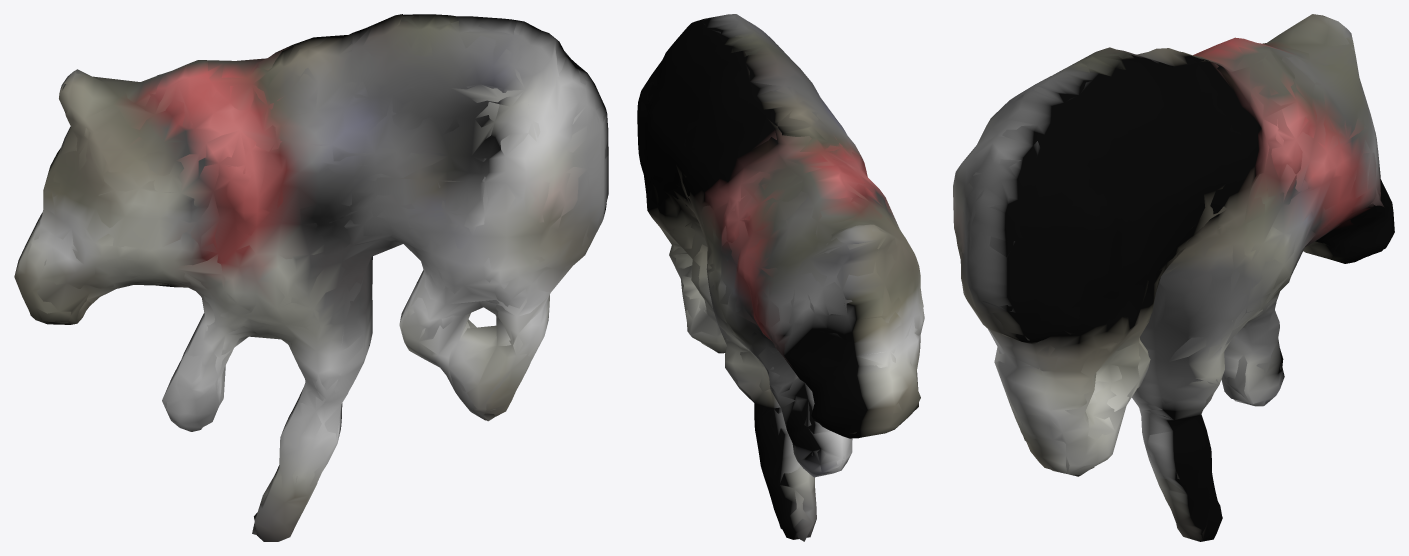
The model's file is soviet_dog.glb.
The picture shows the model from 3 angles, left to right: view 1: azimuth 30°, elevation 25°; view 2: azimuth 150°, elevation 25°; view 3: azimuth 270°, elevation 25°; orthographic projection. The views are drawn at different scales.
Visible parts, largest first — view 1: soviet_attack_dog; view 2: soviet_attack_dog; view 3: soviet_attack_dog.
Part boxes in pixels (x1,y1,x2,y2): soviet_attack_dog: [14, 14, 608, 541]; soviet_attack_dog: [637, 14, 924, 541]; soviet_attack_dog: [953, 14, 1394, 541].
Bounding box in the file's own units: 1.69 × 1.94 × 1.47.
